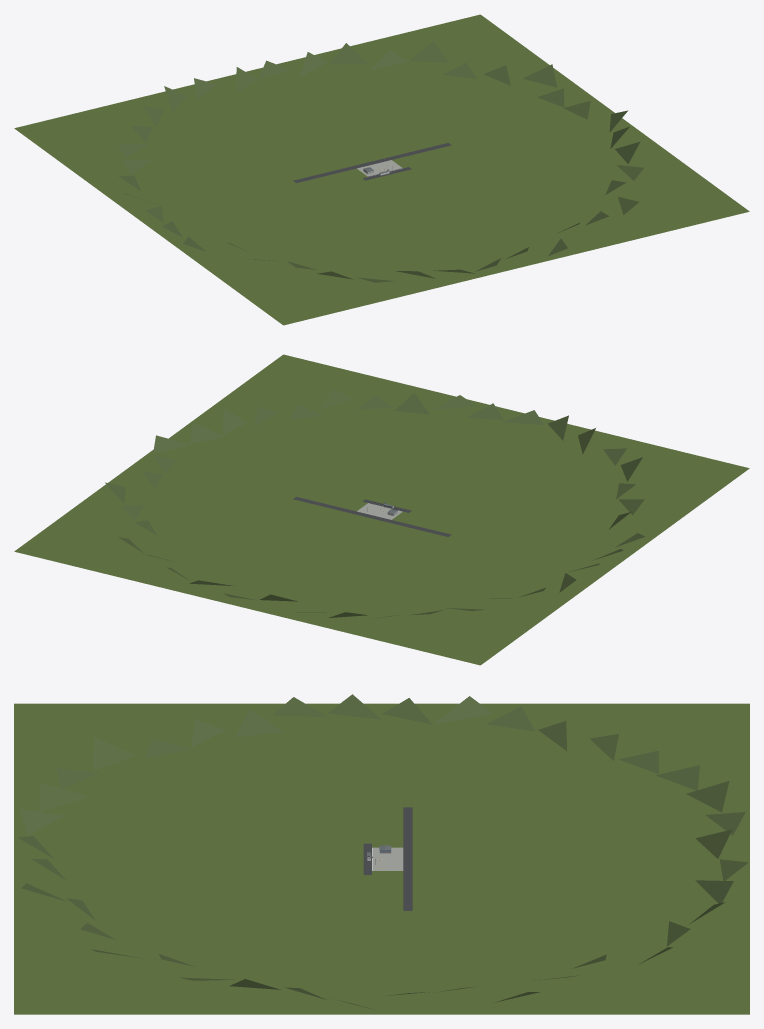
The model's file is sola.glb.
The picture shows the model from 3 angles, top to bottom: view 1: azimuth 30°, elevation 25°; view 2: azimuth 150°, elevation 25°; view 3: azimuth 270°, elevation 25°; orthographic projection. The views are drawn at different scales.
Visible parts, largest first — view 1: SolaApron; view 2: SolaApron; view 3: SolaApron.
Boxes of the visible parts, x1=… form: SolaApron: x1=14, y1=14, x2=749, y2=325; SolaApron: x1=14, y1=354, x2=749, y2=665; SolaApron: x1=14, y1=694, x2=749, y2=1014.
Bounding box in the file's own units: 2415 × 70.09 × 2400.
